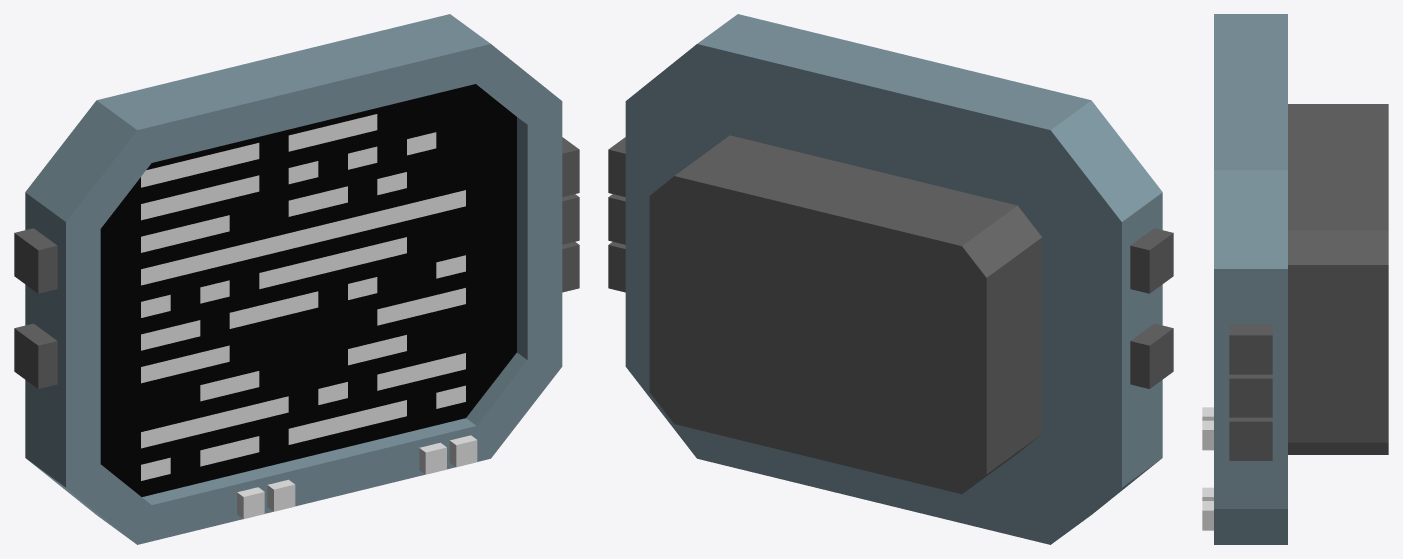
The model's file is upgrade_screen_1.fbx.
The picture shows the model from 3 angles, left to right: view 1: azimuth 30°, elevation 25°; view 2: azimuth 150°, elevation 25°; view 3: azimuth 270°, elevation 25°; orthographic projection. The views are drawn at different scales.
Parts seen in each view (by area): view 1: Cube; view 2: Cube; view 3: Cube.
Part boxes in pixels (x1=…): Cube: x1=14, y1=14, x2=579, y2=544; Cube: x1=608, y1=14, x2=1173, y2=544; Cube: x1=1202, y1=14, x2=1388, y2=544.
Bounding box in the file's own units: 356 × 261 × 117.
